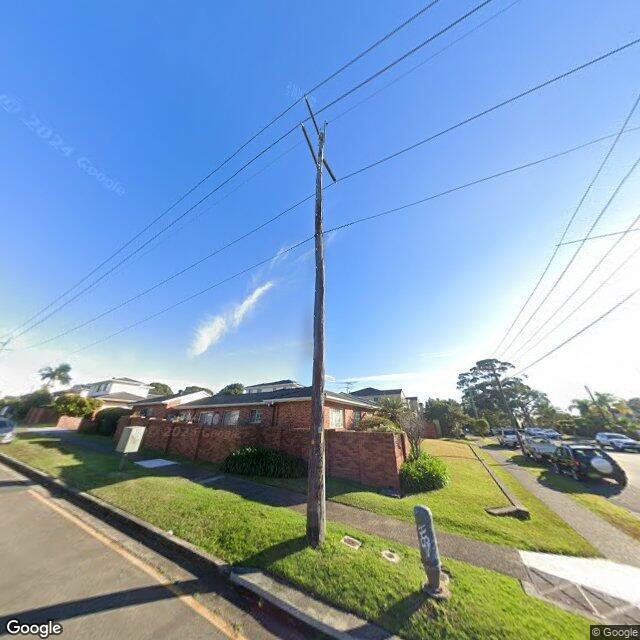HV-transmission: (302, 96, 337, 182)
timber-pole: (306, 130, 326, 546), (490, 363, 528, 460), (584, 385, 614, 433)
